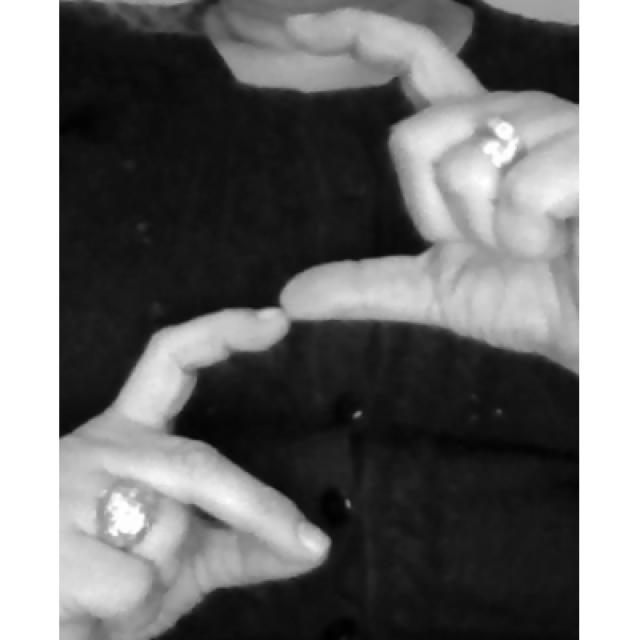S_: (61, 4, 579, 626)
